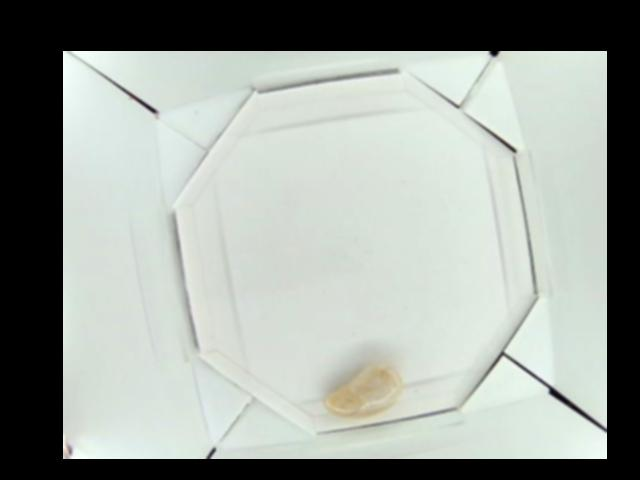Pebble: (323, 365, 404, 417)
